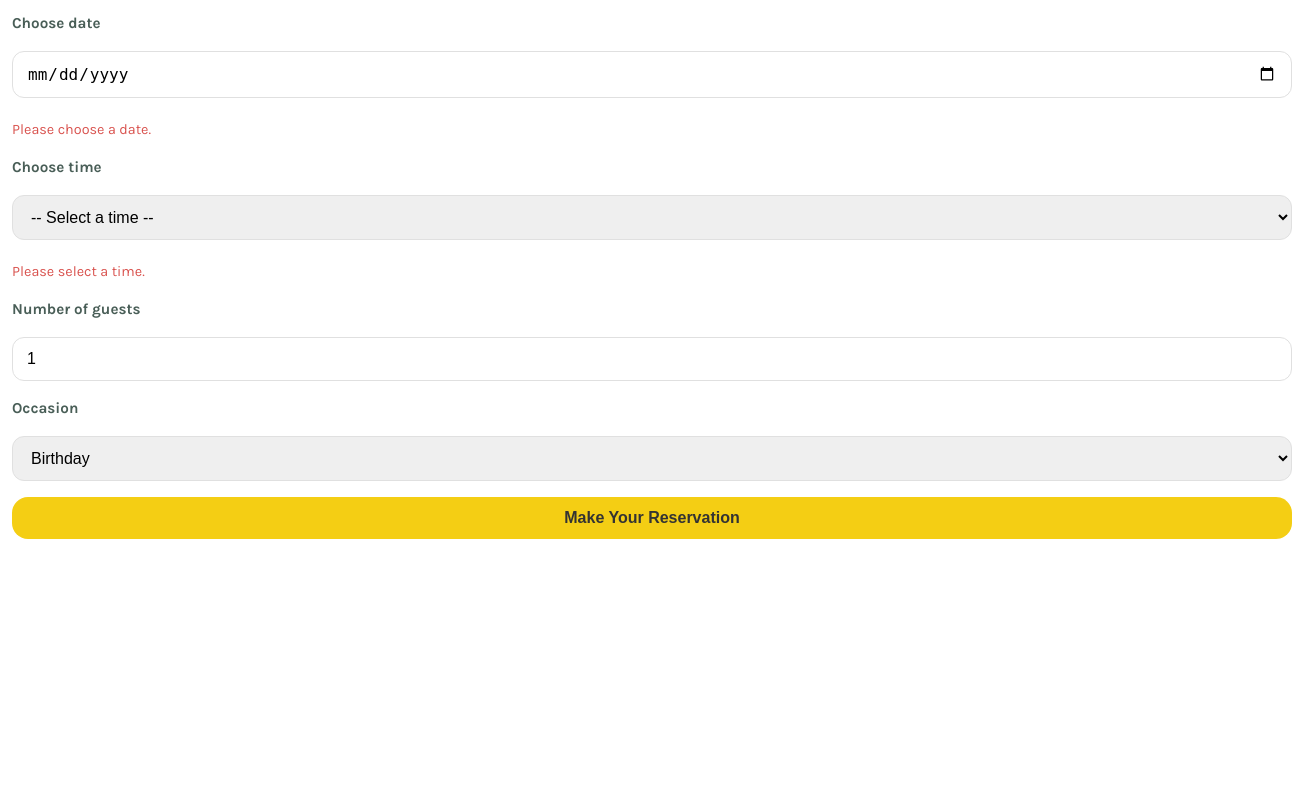
BookingForm › shows error if guests less than 1
Step 1. Replace the text in the number field labelled "Number of guests" with "0" → (652, 359), box [12,337,1292,381]
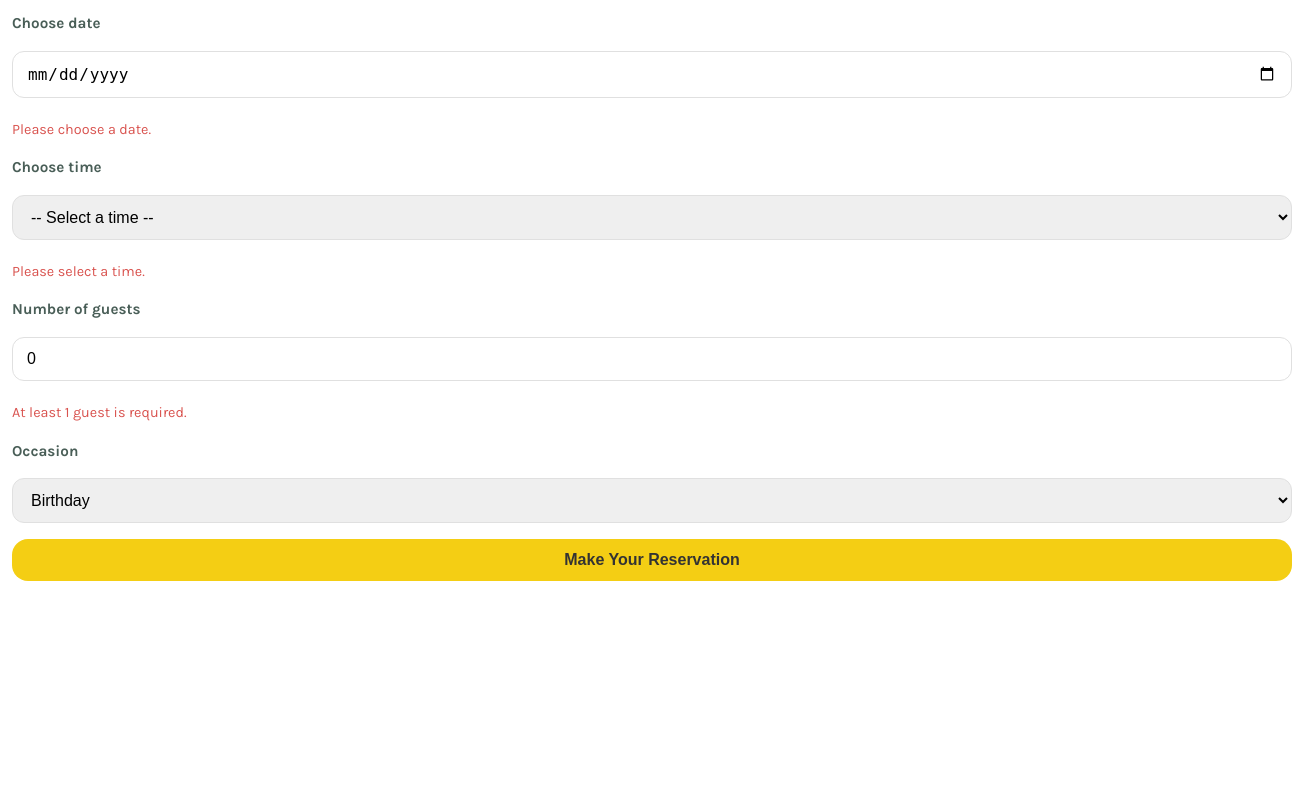
expect the text "At least 1 guest is required." is shown: met, box [12,404,187,421]
